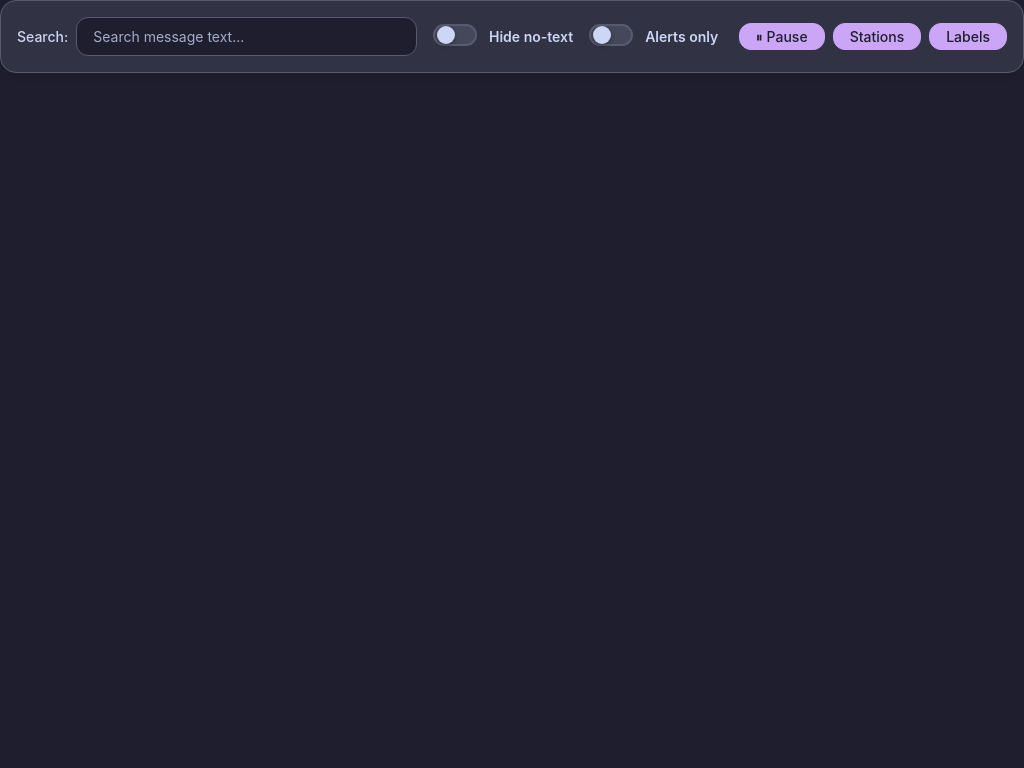
Test case: MessageFilters › station filter modal › renders an empty-state message when stationIds is []
Click the button "Stations": point(877, 37) [833,23,921,50]
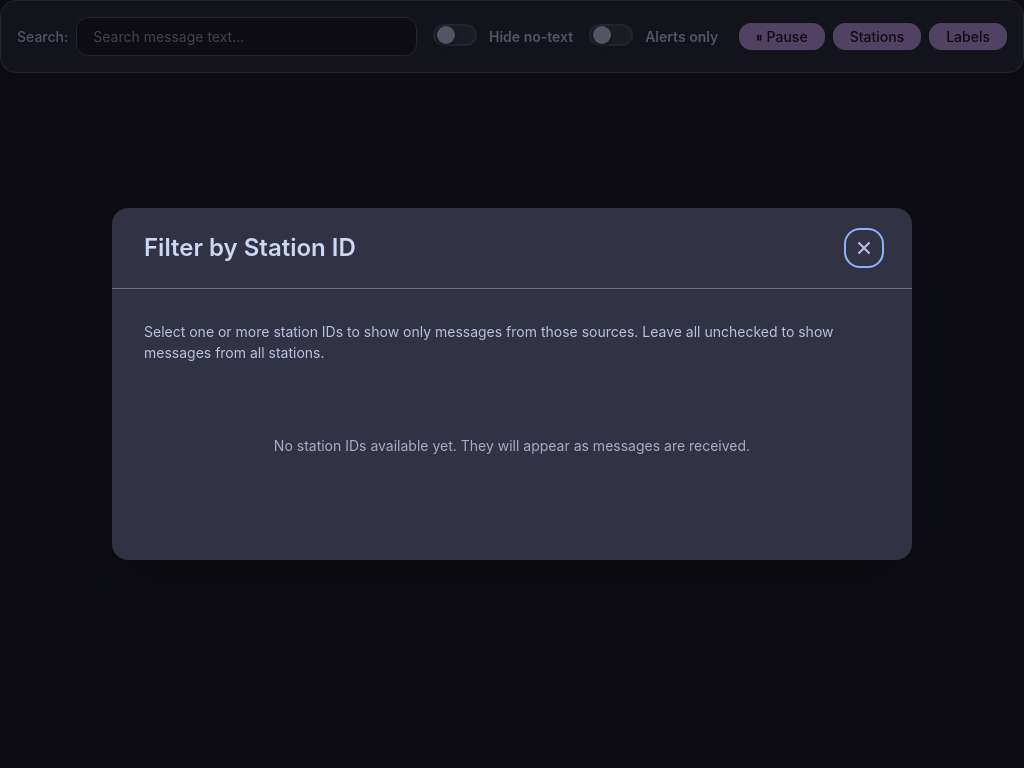
Check: the text "No station IDs available yet" is shown, box [274,437,750,454]
